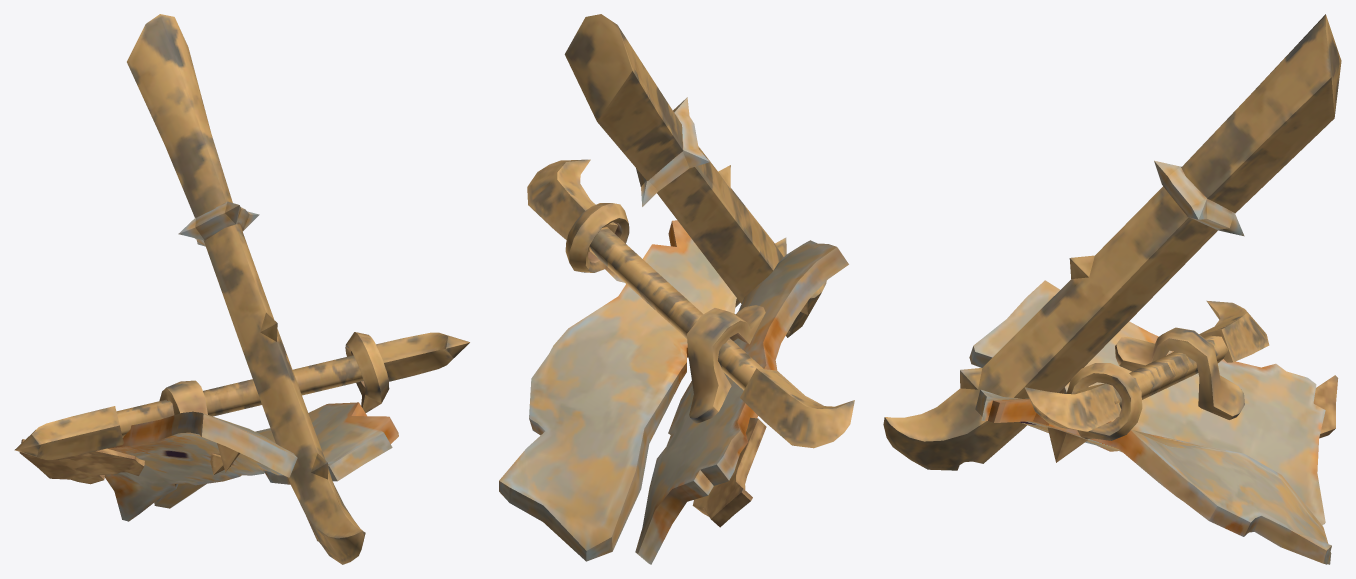
File: HL_Barricade_F_DmgState_02_00.fbx
The picture shows the model from 3 angles, left to right: view 1: azimuth 30°, elevation 25°; view 2: azimuth 150°, elevation 25°; view 3: azimuth 270°, elevation 25°; orthographic projection. The views are drawn at different scales.
Parts seen in each view (by area): view 1: HL_Barricade_F_DmgState_02_00; view 2: HL_Barricade_F_DmgState_02_00; view 3: HL_Barricade_F_DmgState_02_00.
Boxes of the visible parts, left/top/right/bottom form: HL_Barricade_F_DmgState_02_00: left=14, top=14, right=469, bottom=564; HL_Barricade_F_DmgState_02_00: left=499, top=14, right=854, bottom=564; HL_Barricade_F_DmgState_02_00: left=883, top=14, right=1341, bottom=564.
Bounding box in the file's own units: 306 × 396 × 303.
